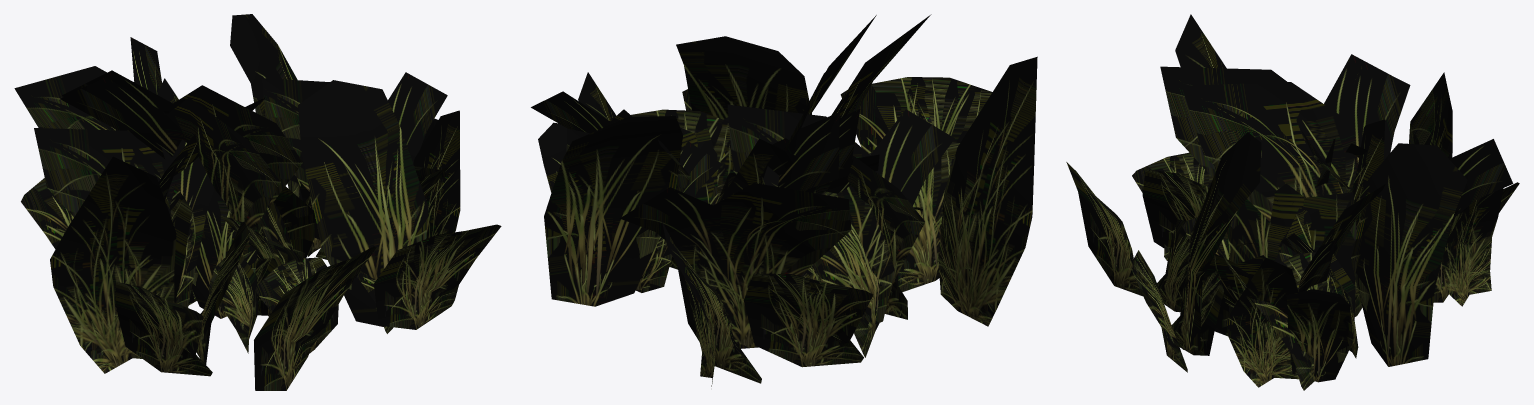
File: SM_Grass_13.fbx
3 views of the same model, side by side, from view 1: azimuth 30°, elevation 25°; view 2: azimuth 150°, elevation 25°; view 3: azimuth 270°, elevation 25° (orthographic). The views are drawn at different scales.
Parts seen in each view (by area): view 1: SM_Grass_13; view 2: SM_Grass_13; view 3: SM_Grass_13.
Part boxes in pixels (x1,y1,x2,y2): SM_Grass_13: (14,14,501,390); SM_Grass_13: (531,14,1037,386); SM_Grass_13: (1066,14,1519,390).
Size of the model in its own units: 37.41 by 36.91 by 19.76.
Materials: 1 (1 with a texture image).
